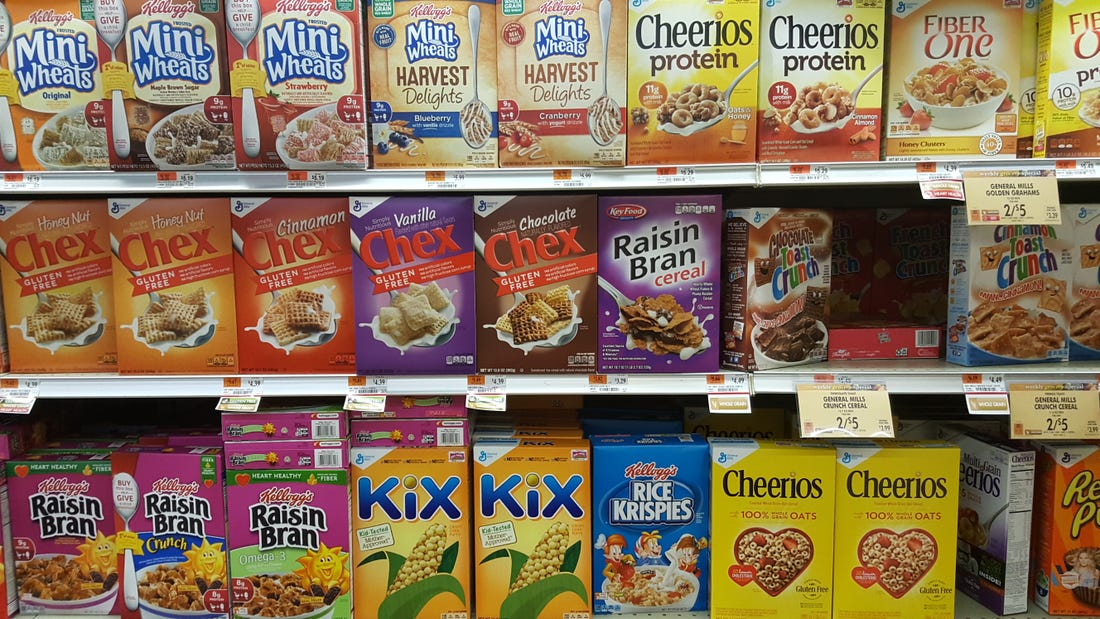cereal: (223, 1, 364, 171), (364, 1, 497, 174), (96, 1, 231, 169), (224, 445, 354, 619), (602, 192, 722, 376), (112, 201, 238, 374), (625, 1, 755, 167), (497, 1, 623, 171), (474, 197, 599, 368), (352, 200, 476, 372), (234, 200, 354, 374), (714, 449, 833, 619), (1, 202, 117, 376), (594, 447, 709, 619), (893, 1, 1015, 163), (839, 448, 954, 617), (112, 456, 231, 619), (758, 4, 879, 163), (961, 207, 1078, 365), (1, 1, 95, 171), (14, 468, 114, 619), (748, 210, 837, 369)
